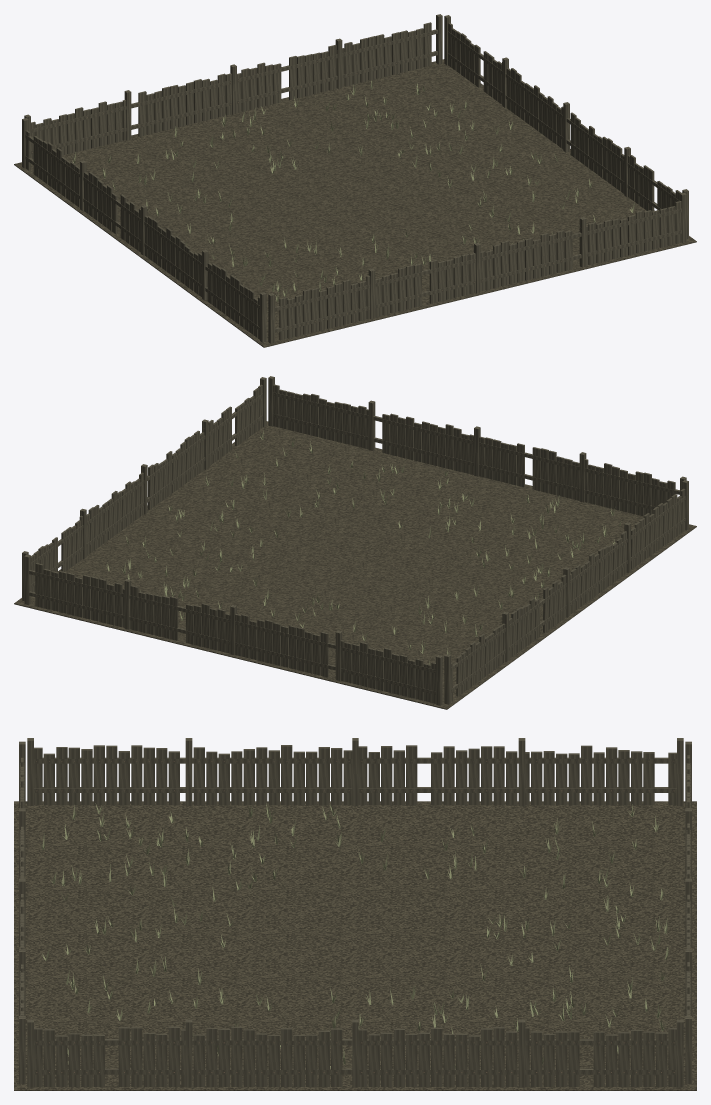
The model's file is vacant-lot.glb.
3 views of the same model, one above another, from view 1: azimuth 30°, elevation 25°; view 2: azimuth 150°, elevation 25°; view 3: azimuth 270°, elevation 25° (orthographic). The views are drawn at different scales.
Visible parts, largest first — view 1: vacant yard ground, fence post, vacant yard weed blades; view 2: vacant yard ground, fence post, vacant yard weed blades; view 3: vacant yard ground, fence post, vacant yard weed blades.
Boxes of the visible parts, box(x1,y1,x2,y2) form: vacant yard ground: box(14, 59, 696, 347); fence post: box(22, 14, 688, 343); vacant yard weed blades: box(72, 80, 634, 301); vacant yard ground: box(14, 421, 696, 709); fence post: box(22, 376, 688, 705); vacant yard weed blades: box(106, 431, 621, 664); vacant yard ground: box(14, 801, 696, 1090); fence post: box(19, 738, 691, 1087); vacant yard weed blades: box(41, 803, 669, 1068).
Size of the model in its own units: 16.4 by 1.76 by 16.4.
Materials: 4 (2 with a texture image).
